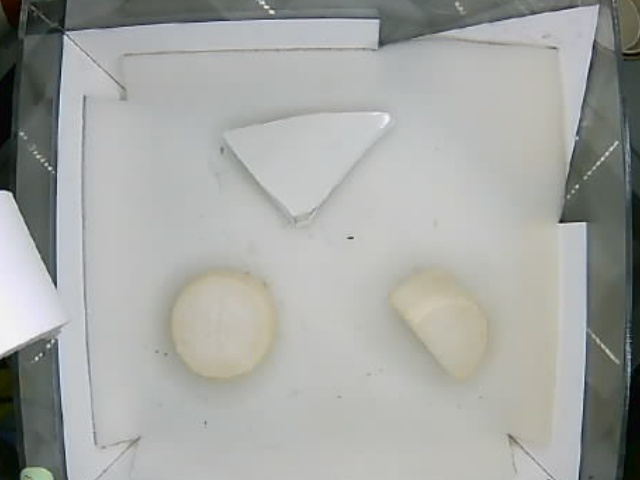China: (222, 107, 393, 225)
Mooli: (386, 264, 491, 383), (172, 266, 274, 374)
